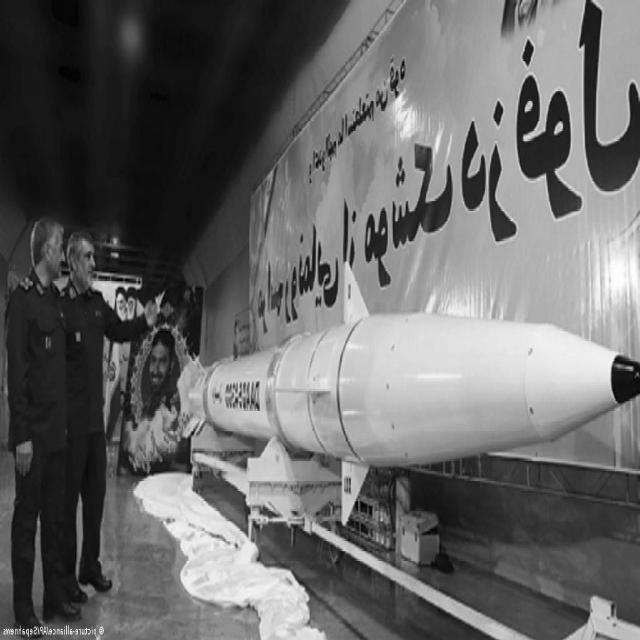missile: (178, 298, 636, 487)
